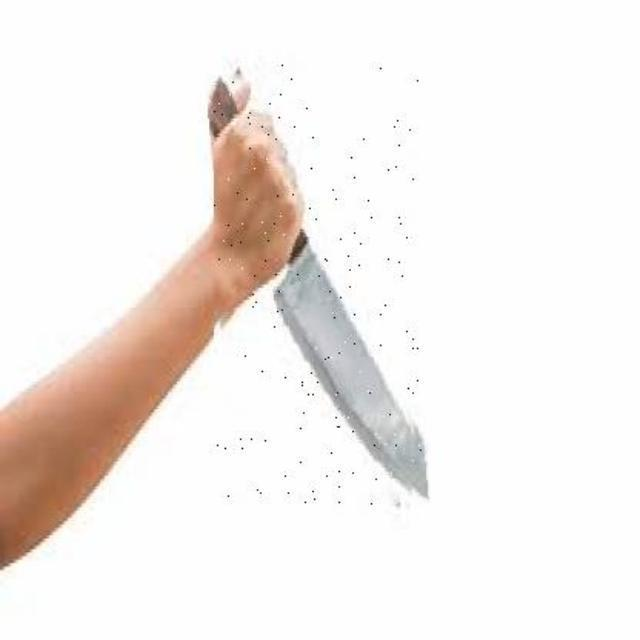Knife: (215, 65, 422, 515)
